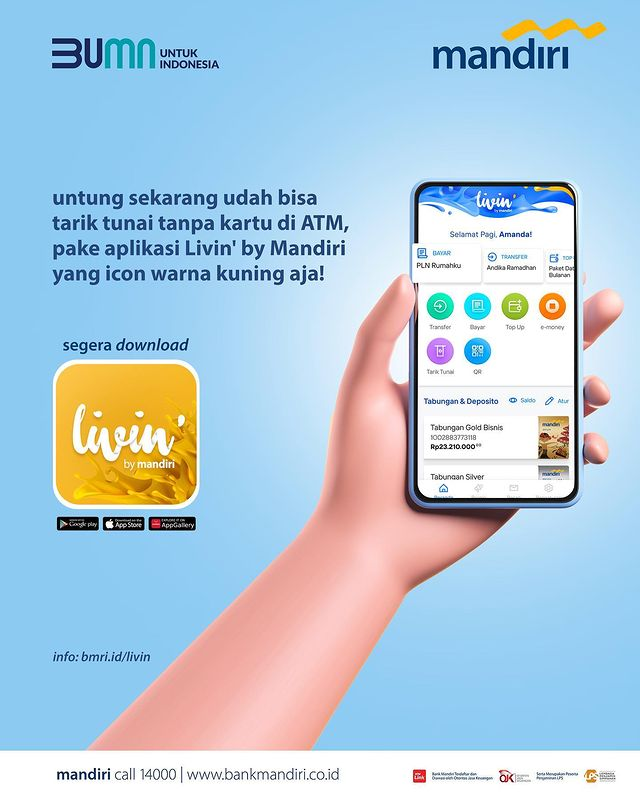ojk: (495, 763, 535, 792)
